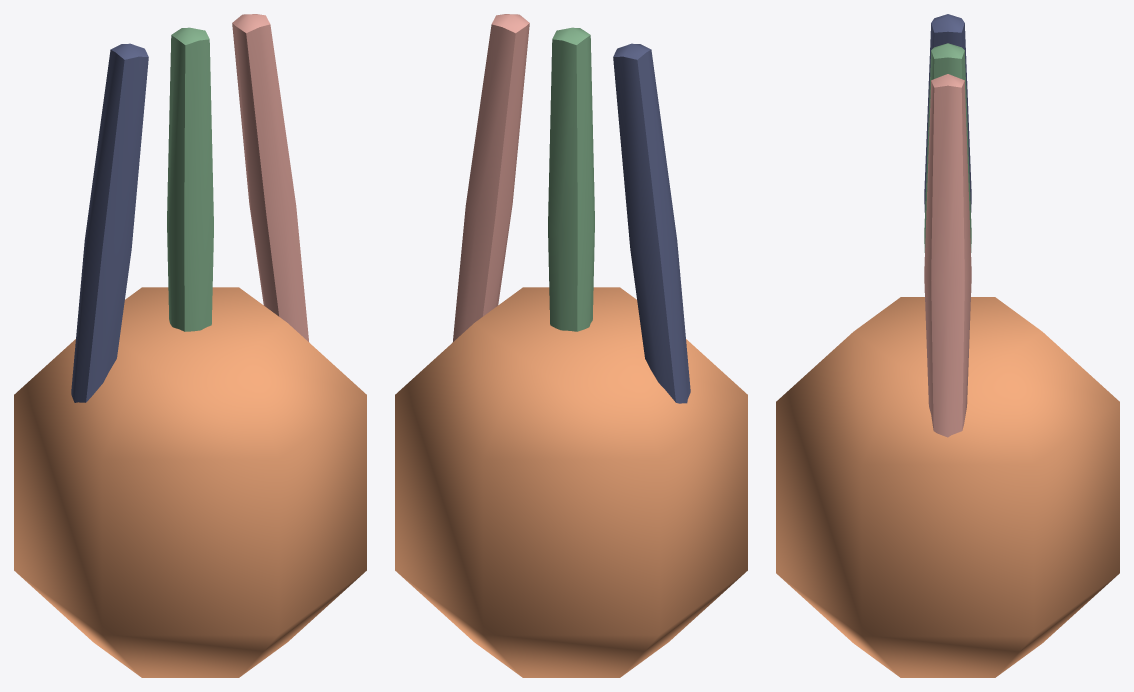
File: pen-cup.glb
3 renders of one model, left to right at view 1: azimuth 30°, elevation 25°; view 2: azimuth 150°, elevation 25°; view 3: azimuth 270°, elevation 25°, orthographic. The views are drawn at different scales.
Visible parts, largest first — view 1: part (×4); view 2: part (×4); view 3: part (×4).
Part boxes in pixels (left/top/right/bottom): part (×4): left=14, top=14, right=366, bottom=677; part (×4): left=395, top=14, right=747, bottom=677; part (×4): left=776, top=14, right=1119, bottom=677.
Size of the model in its own units: 0.1126 by 0.25 by 0.13.
1 material, 1 textured.
